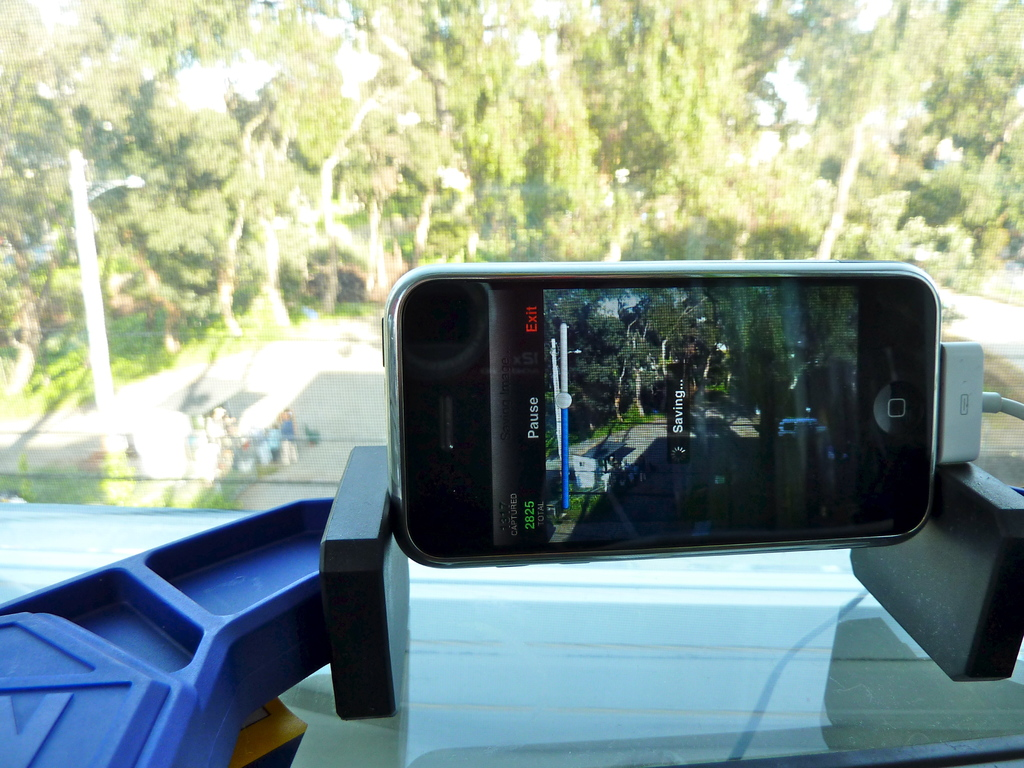mobile phone: (371, 269, 956, 581)
